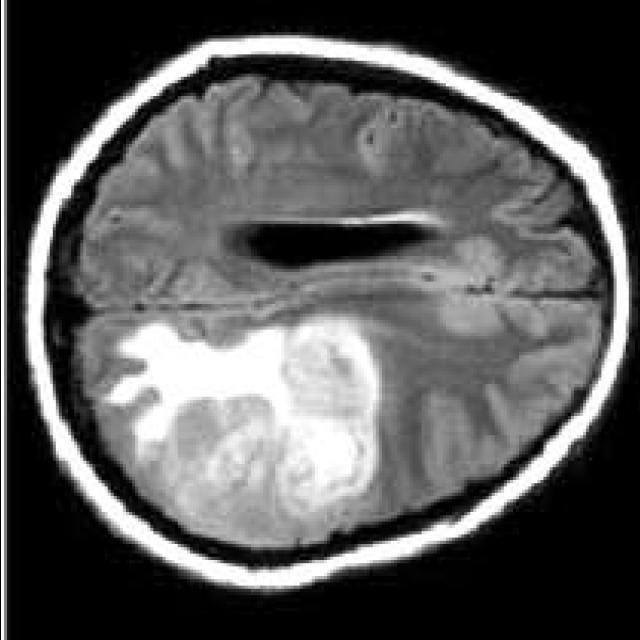tumor: (116, 320, 378, 509)
